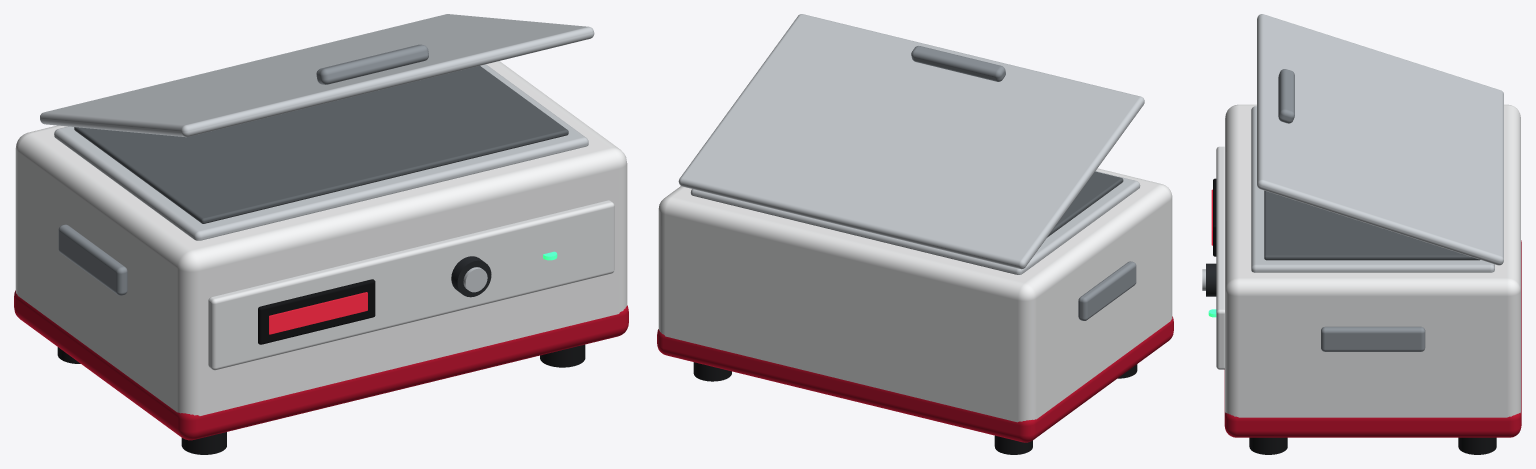
File: nsb-12.glb
3 views of the same model, side by side, from view 1: azimuth 30°, elevation 25°; view 2: azimuth 150°, elevation 25°; view 3: azimuth 270°, elevation 25° (orthographic). The views are drawn at different scales.
Bounding box in the file's own units: 0.522 × 0.36 × 0.3665.
